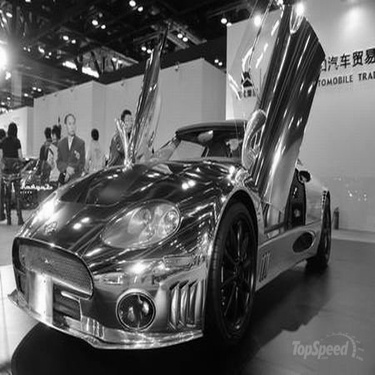car: (18, 1, 344, 363), (1, 151, 60, 214)
